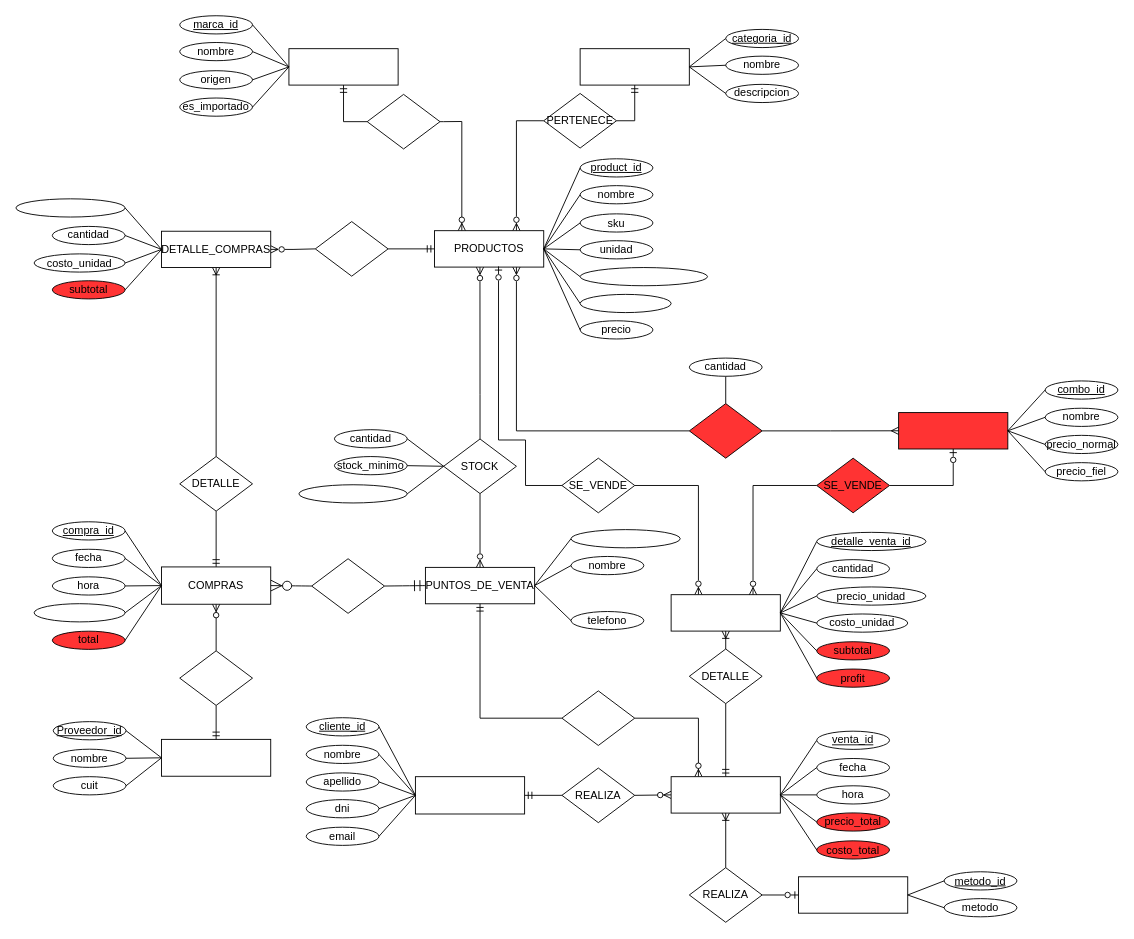
The diagram is 1134 pixels wide and 939 high, and some of its shapes have lost their labels. Here are the shapes that lost their labels. From the top down, the centre of each, then its label:
At point (343, 66): "MARCAS".
At point (634, 66): "CATEGORIAS".
At point (403, 121): "TIENE".
At point (70, 207): "detalle_compra_id".
At point (351, 248): "SE_COMPRA".
At point (643, 276): "descripcion_medida".
At point (625, 303): "ultimo_costo".
At point (725, 430): "COMPONE".
At point (953, 430): "COMBOS".
At point (352, 493): "fecha_actualizacion".
At point (625, 538): "puntos_de_venta_id".
At point (347, 585): "RECIBE".
At point (79, 612): "numero_factura".
At point (725, 612): "DETALLE_VENTAS".
At point (216, 677): "PROVEE".
At point (598, 717): "REGISTRA".
At point (216, 757): "PROVEEDORES".
At point (470, 795): "CLIENTES".
At point (725, 794): "VENTAS".
At point (853, 894): "METODO_PAGO".
